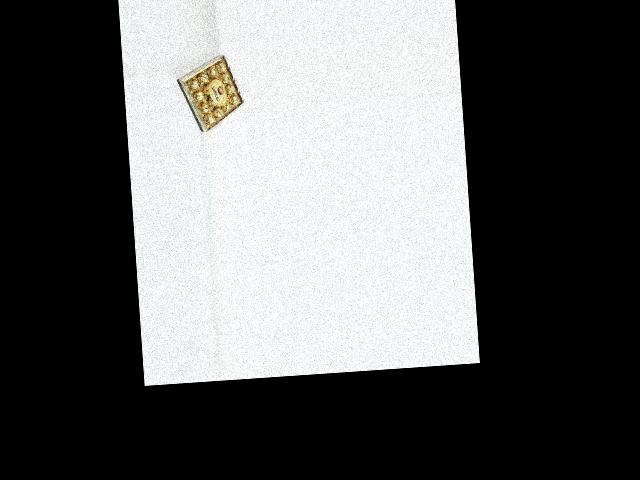chocolate: (173, 52, 247, 135)
